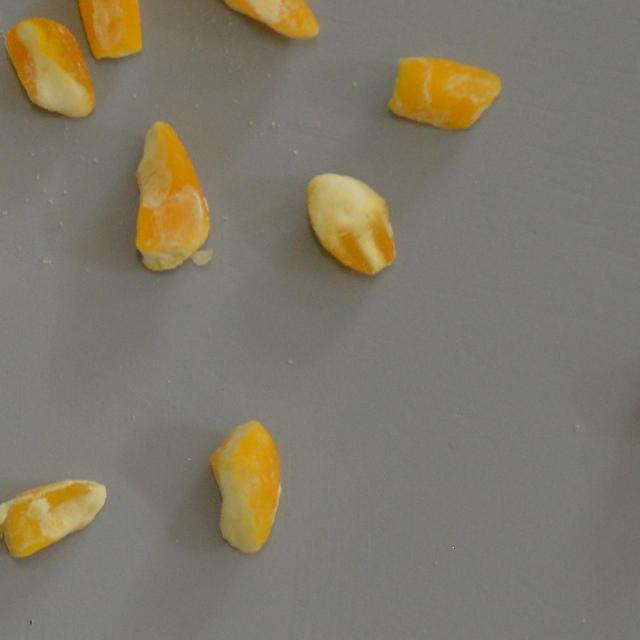dañado: (126, 110, 217, 277), (0, 11, 98, 122), (208, 416, 284, 558), (0, 472, 110, 562), (384, 50, 504, 132), (62, 0, 144, 64), (210, 0, 323, 44)
punto_negro: (303, 170, 398, 280)
